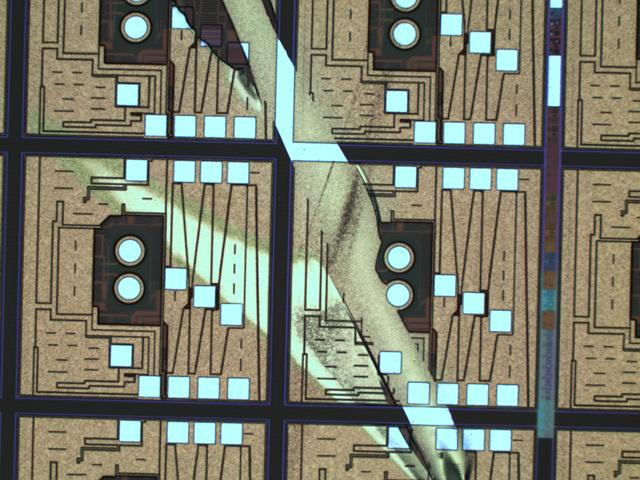COATING BAD: (8, 1, 479, 480)
